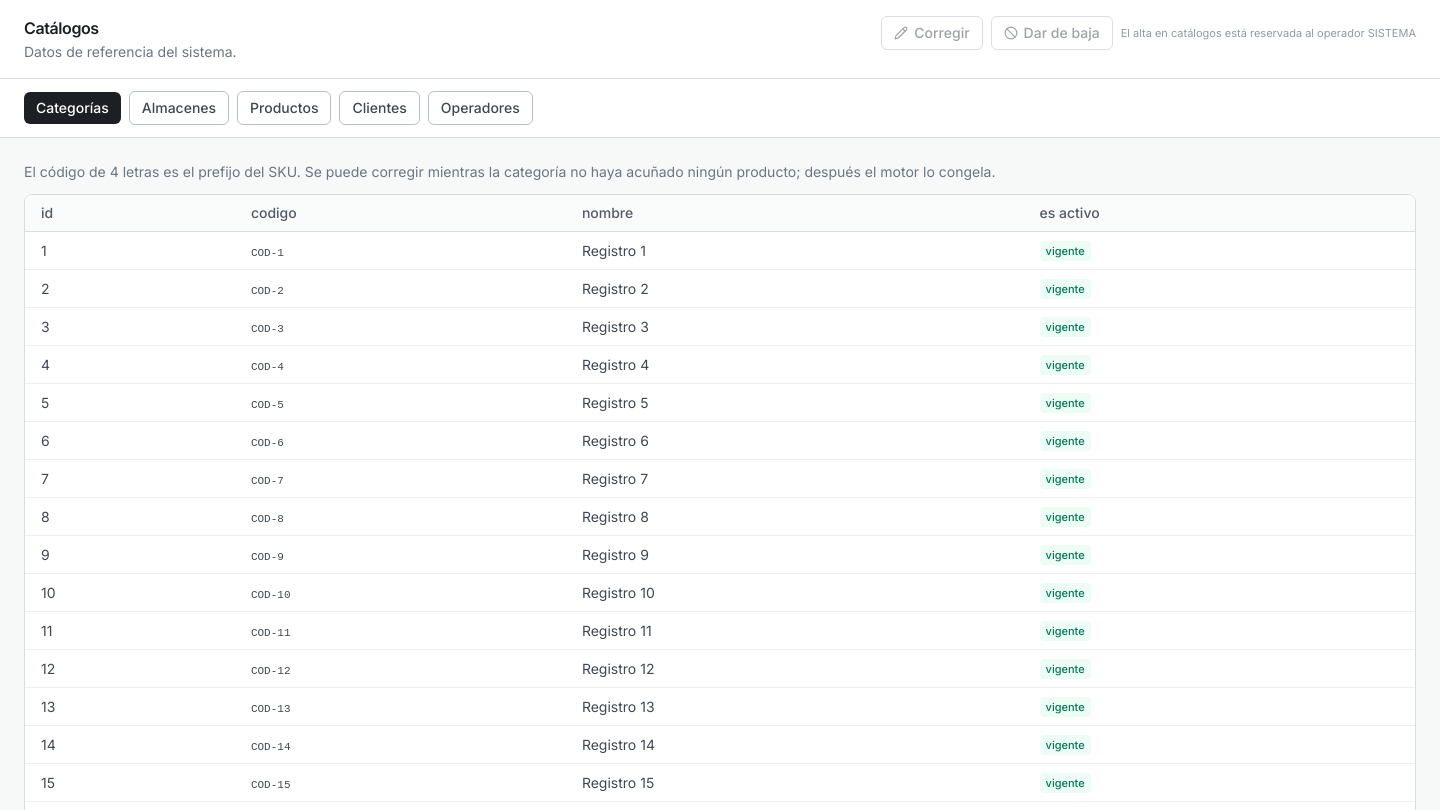
it: Catalogos - corregir un registro › un conflicto de version se explica en vez de pisarse
The width and height of the screenshot is (1440, 810).
Click the text "Registro 1" at {"x": 614, "y": 250}, box x1=566 y1=232 x2=1024 y2=270
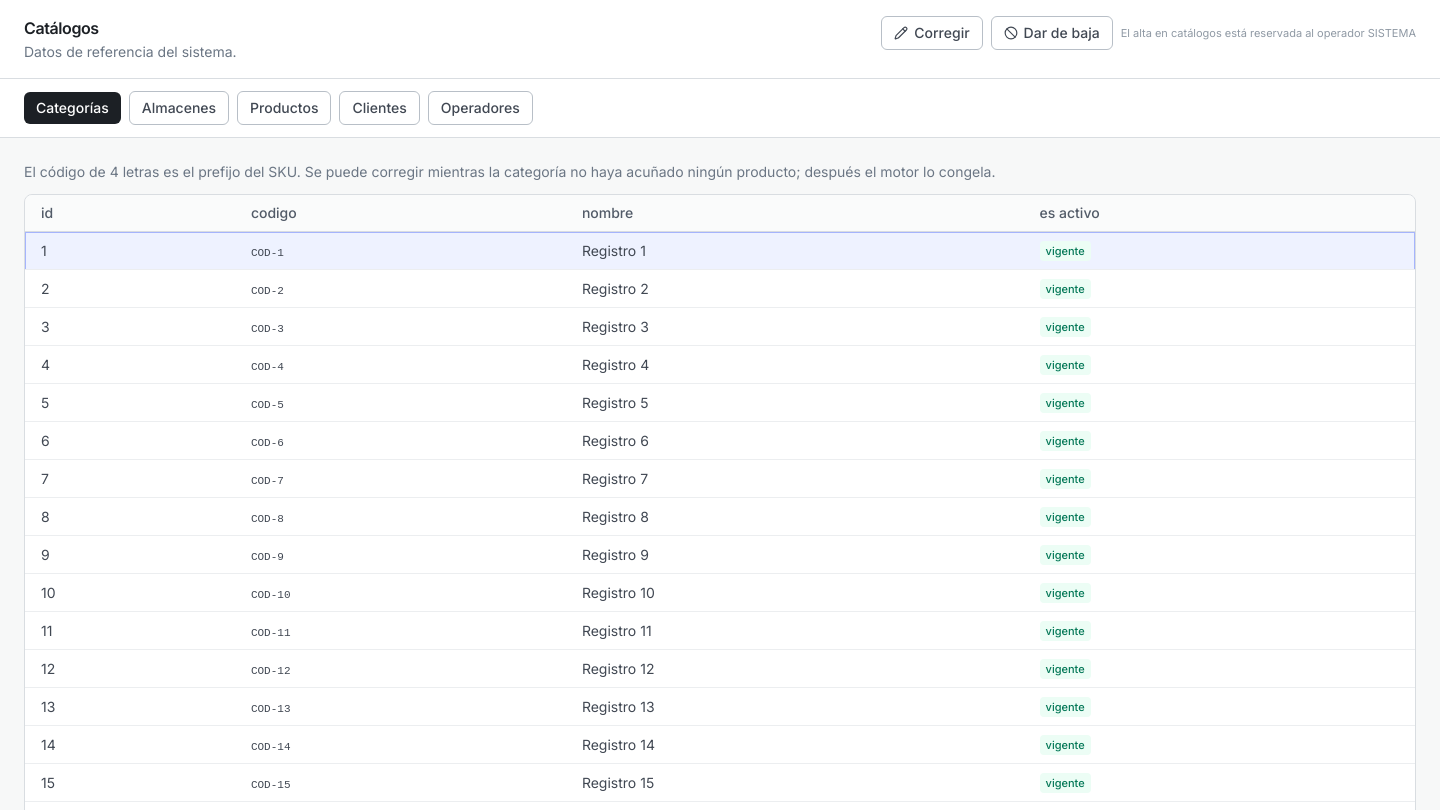
Click the button "Corregir" at {"x": 932, "y": 33}, box x1=881 y1=16 x2=983 y2=50
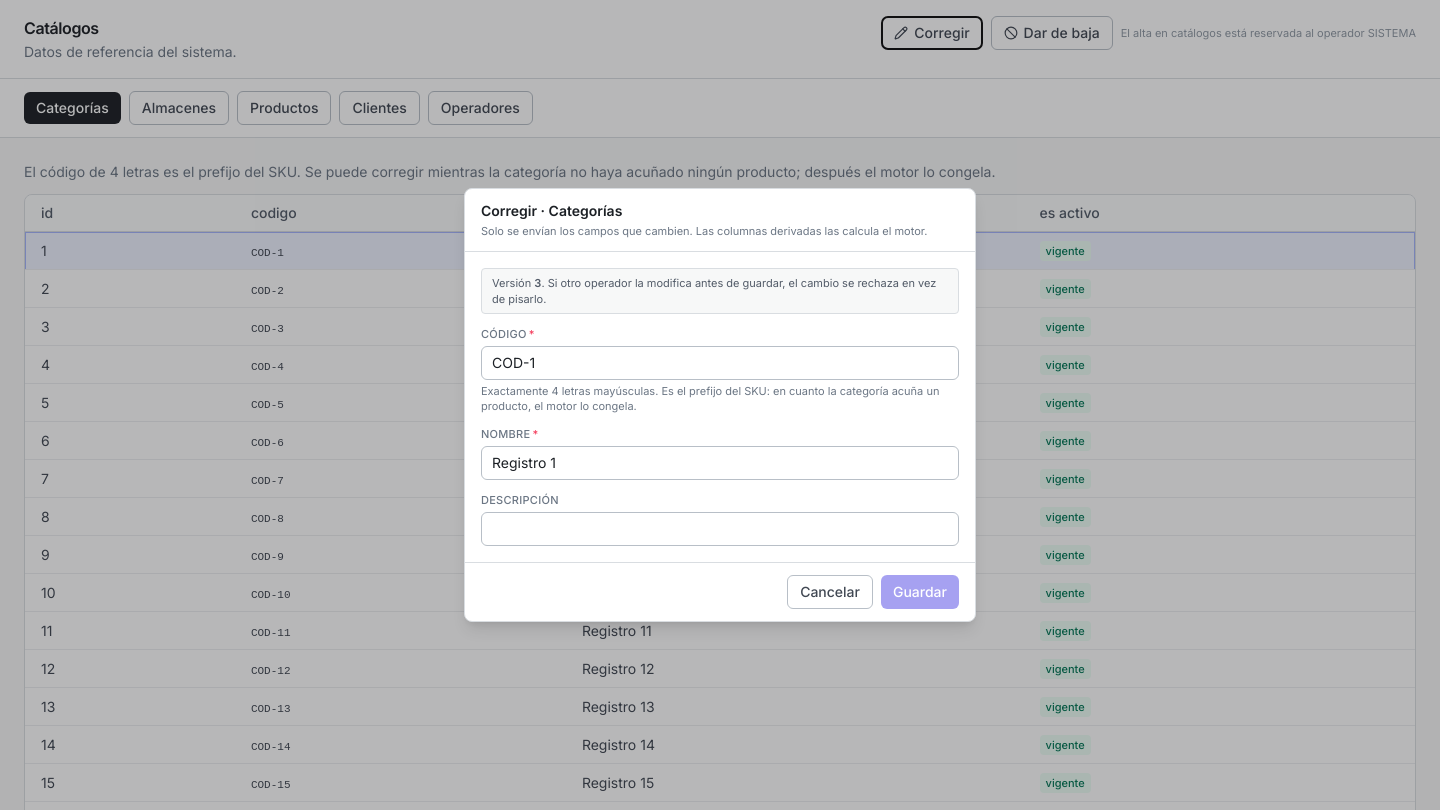
Replace the text in the field labelled "Nombre*" with "Otro nombre" at {"x": 720, "y": 463}, box x1=481 y1=446 x2=959 y2=480
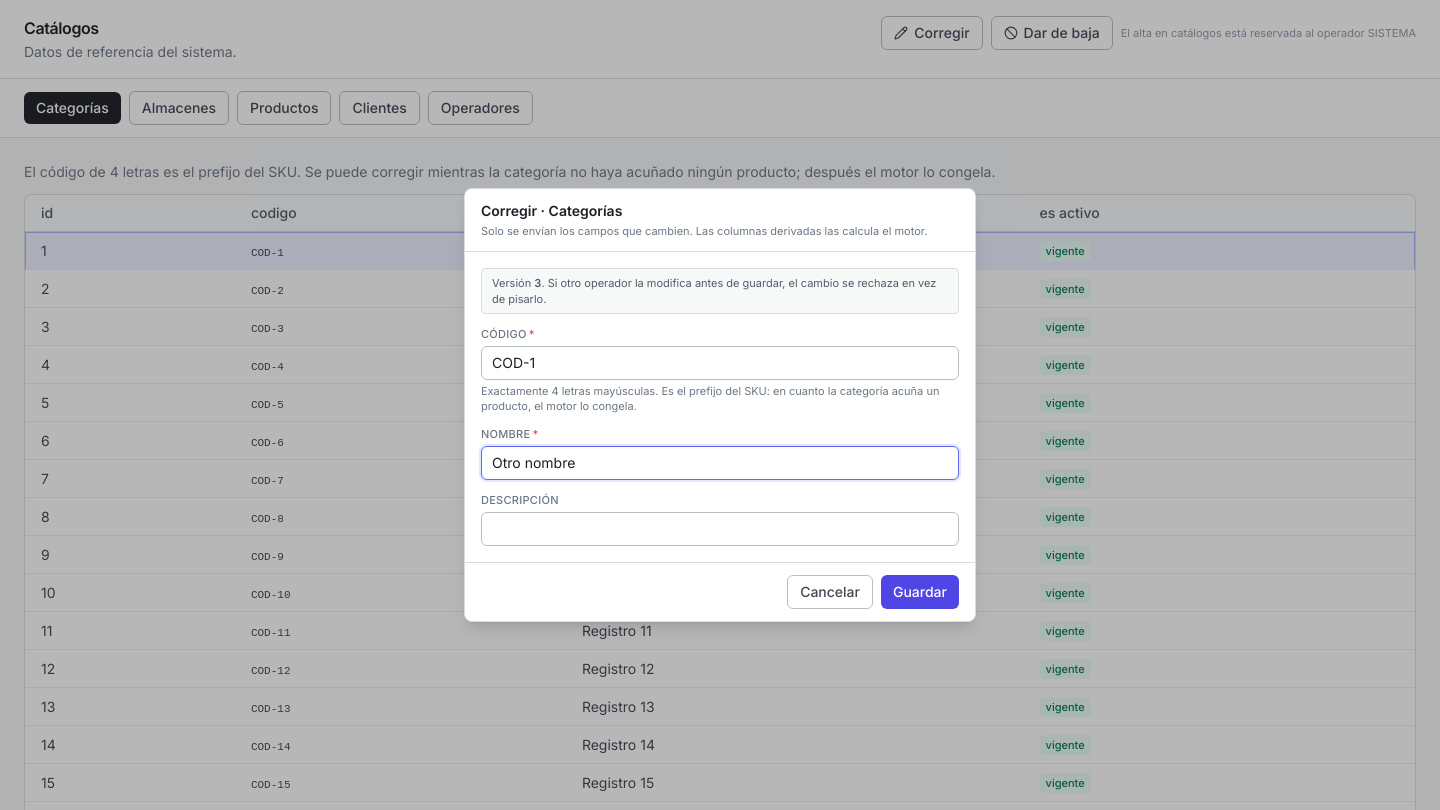
Click the button "Guardar" at {"x": 920, "y": 592}, box x1=881 y1=575 x2=959 y2=609
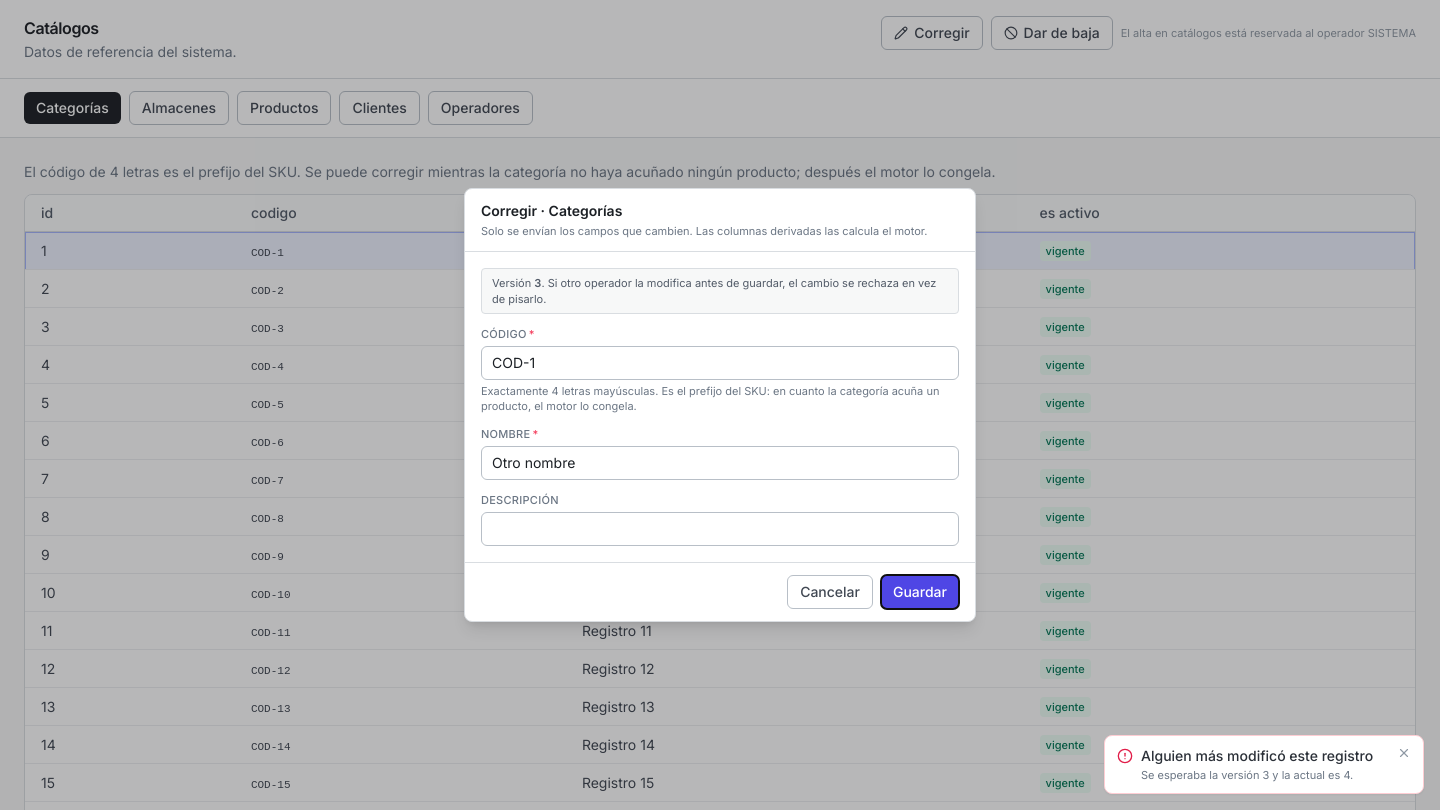
Expected: the text "Alguien más modificó este registro" is shown, x1=1141 y1=746 x2=1389 y2=766
